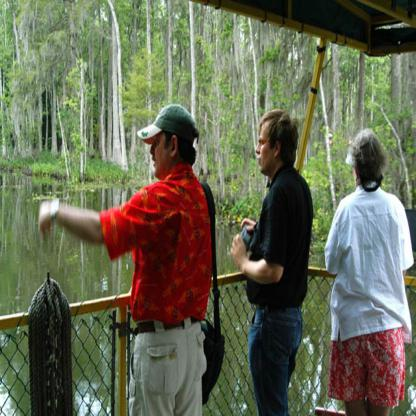face: (151, 125, 172, 176), (257, 123, 277, 171)
